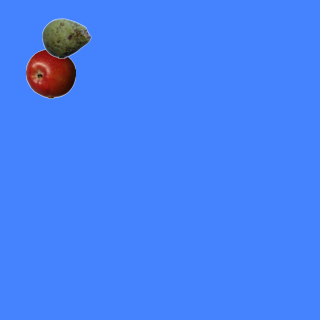Apple Braeburn: (25, 48, 75, 98)
Pear Stone: (41, 13, 91, 63)
